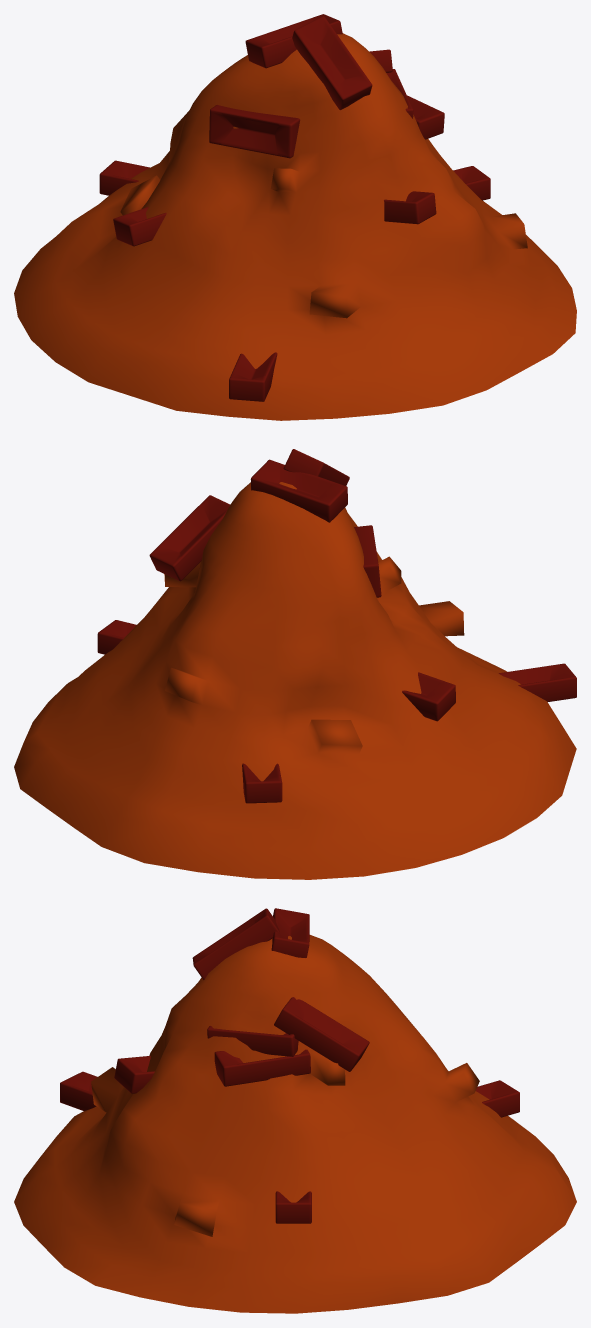
Rendered from isoperiskeri.glb.
3 renders of one model, top to bottom at view 1: azimuth 30°, elevation 25°; view 2: azimuth 150°, elevation 25°; view 3: azimuth 270°, elevation 25°, orthographic. The views are drawn at different scales.
Visible parts, largest first — view 1: IsoPeriskeri, Brick6, Brick7, Bric5, Brick2, Bric3, Bric4, Bric1, Brick8, Brick; view 2: IsoPeriskeri, Bric5, Brick10, Brick2, Bric4, Bric1, Brick6, Brick7, Brick; view 3: IsoPeriskeri, Brick10, Brick8, Brick6, Bric5, Brick9, Bric3, Bric1, Brick2, Brick.
Part boxes in pixels (x1=…): IsoPeriskeri: x1=14, y1=33, x2=576, y2=420; Brick6: x1=292, y1=16, x2=372, y2=110; Brick7: x1=209, y1=105, x2=300, y2=158; Bric5: x1=245, y1=14, x2=342, y2=68; Brick2: x1=229, y1=352, x2=277, y2=401; Bric3: x1=384, y1=191, x2=436, y2=224; Bric4: x1=113, y1=207, x2=166, y2=246; Bric1: x1=99, y1=160, x2=149, y2=195; Brick8: x1=407, y1=95, x2=444, y2=139; Brick: x1=453, y1=166, x2=490, y2=200; IsoPeriskeri: x1=14, y1=482, x2=576, y2=879; Bric5: x1=250, y1=459, x2=347, y2=522; Brick10: x1=149, y1=495, x2=229, y2=581; Brick2: x1=498, y1=663, x2=576, y2=701; Bric4: x1=402, y1=672, x2=455, y2=721; Bric1: x1=242, y1=763, x2=282, y2=803; Brick6: x1=283, y1=449, x2=349, y2=485; Brick7: x1=354, y1=525, x2=381, y2=597; Brick: x1=97, y1=620, x2=136, y2=654; IsoPeriskeri: x1=14, y1=935, x2=576, y2=1313; Brick10: x1=274, y1=997, x2=369, y2=1071; Brick8: x1=214, y1=1049, x2=310, y2=1086; Brick6: x1=192, y1=908, x2=279, y2=979; Bric5: x1=271, y1=908, x2=309, y2=957; Brick9: x1=207, y1=1026, x2=298, y2=1056; Bric3: x1=114, y1=1056, x2=154, y2=1093; Bric1: x1=476, y1=1080, x2=519, y2=1117; Brick2: x1=60, y1=1071, x2=97, y2=1110; Brick: x1=275, y1=1191, x2=311, y2=1223.
Size of the model in its own units: 3.62 by 2.13 by 3.74.
